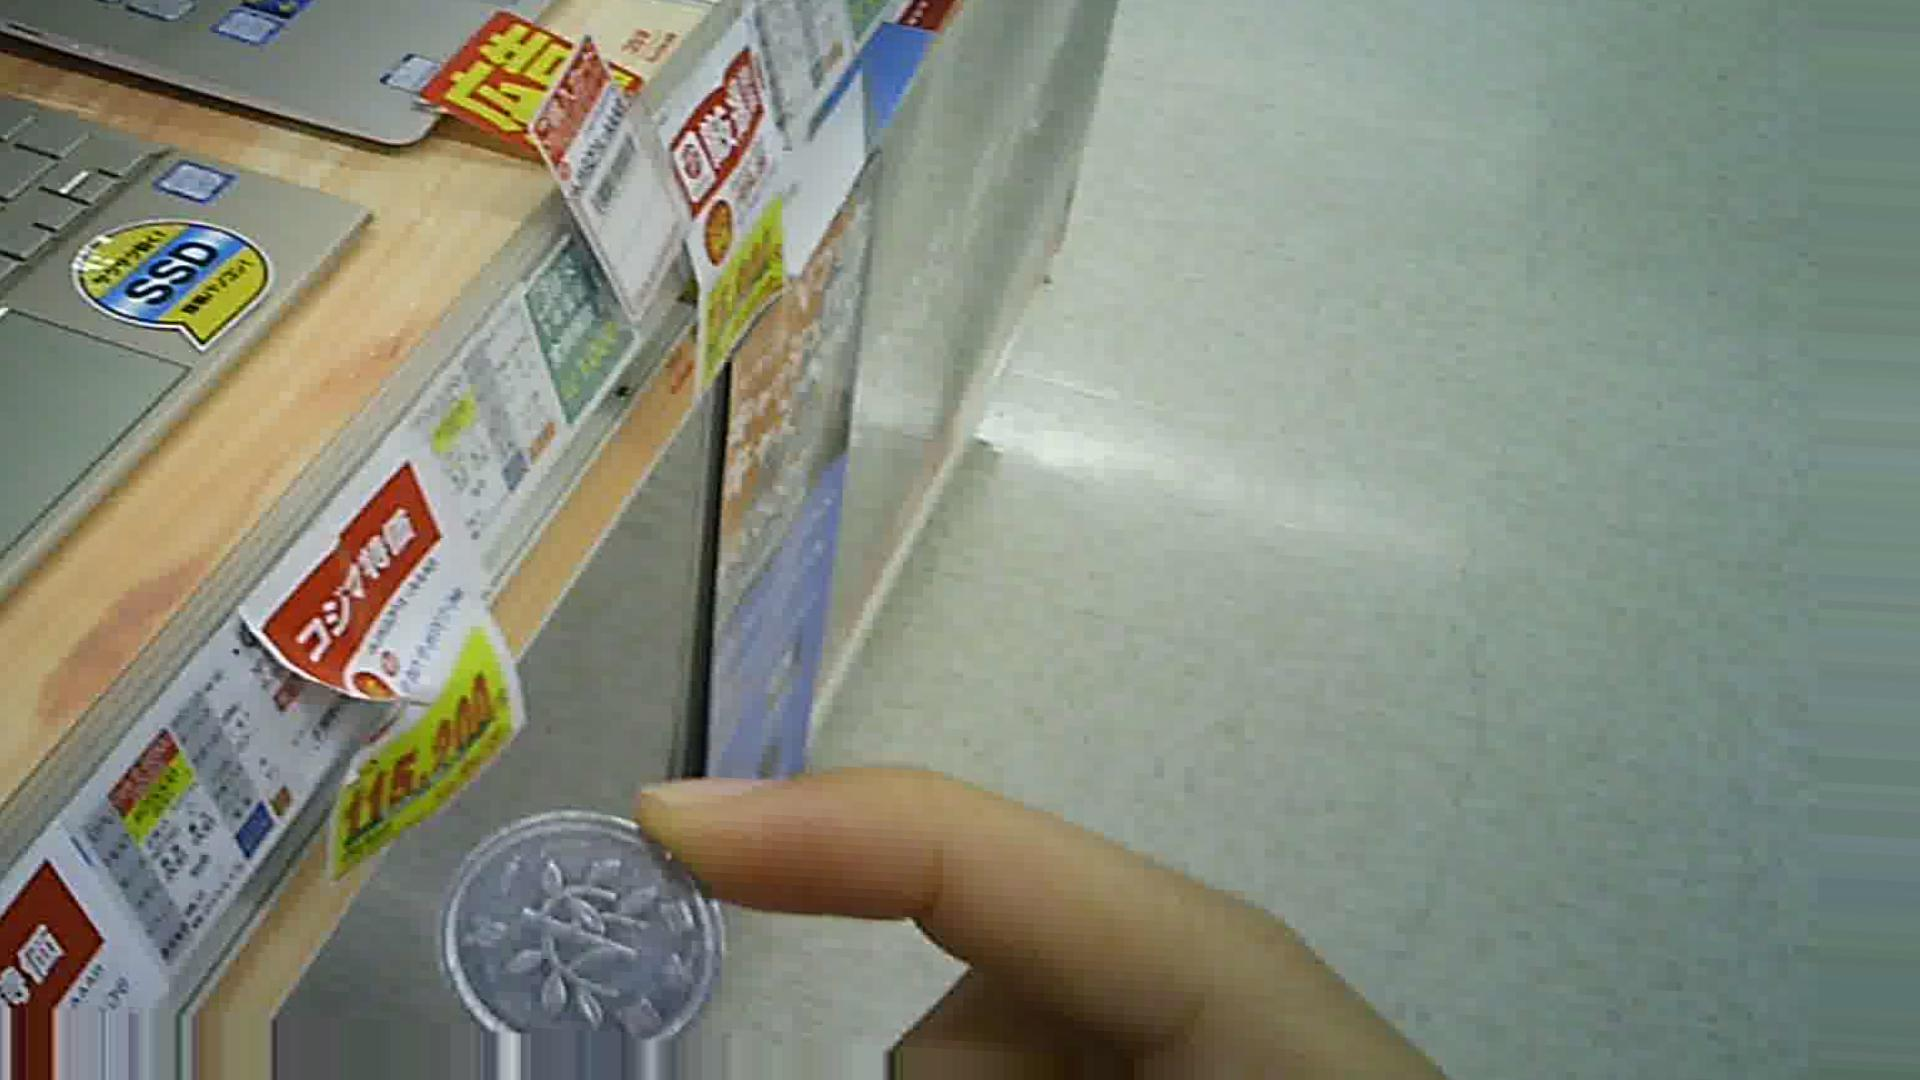1 Yen: (433, 804, 713, 1033)
